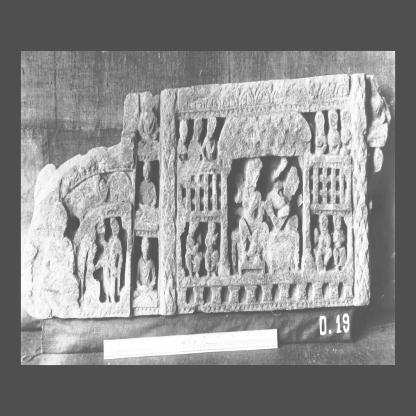buddha-sitting: (132, 235, 158, 314), (136, 162, 158, 229), (138, 93, 160, 158)
